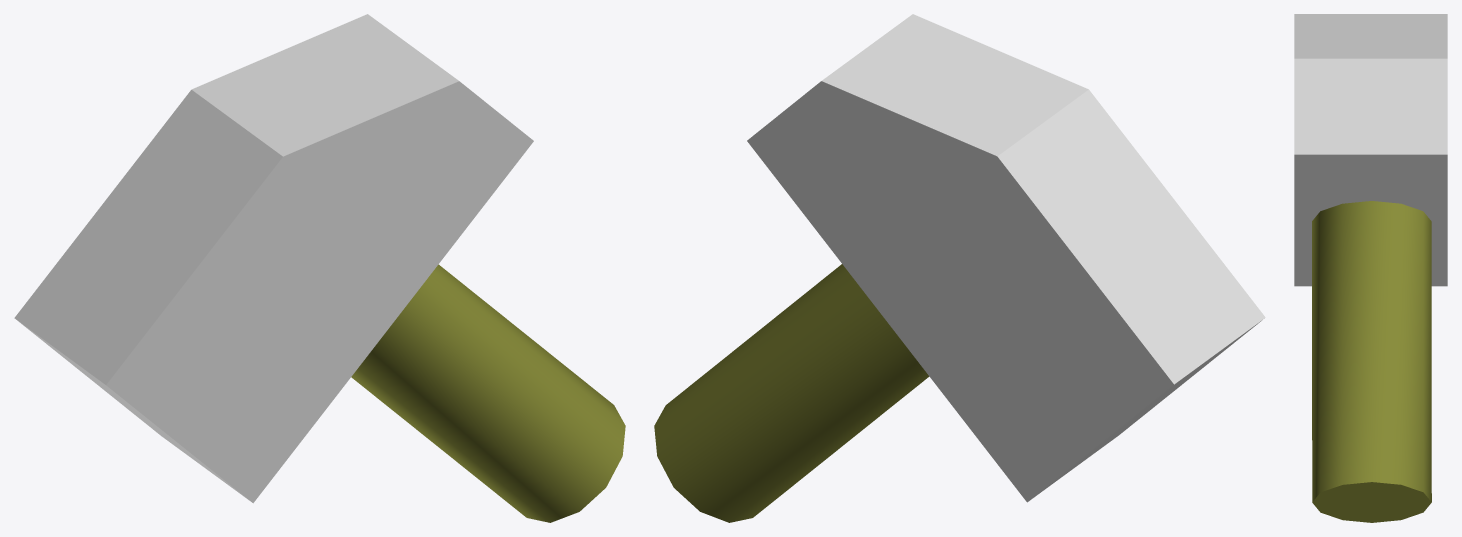
The model's file is hammer.dae.
3 renders of one model, left to right at view 1: azimuth 30°, elevation 25°; view 2: azimuth 150°, elevation 25°; view 3: azimuth 270°, elevation 25°, orthographic. The views are drawn at different scales.
Visible parts, largest first — view 1: Model; view 2: Model; view 3: Model.
Part boxes in pixels (<box>): Model: <box>14,14,625,522</box>; Model: <box>654,14,1265,522</box>; Model: <box>1294,14,1447,522</box>.
Size of the model in its own units: 1 by 0.859 by 0.2864.
